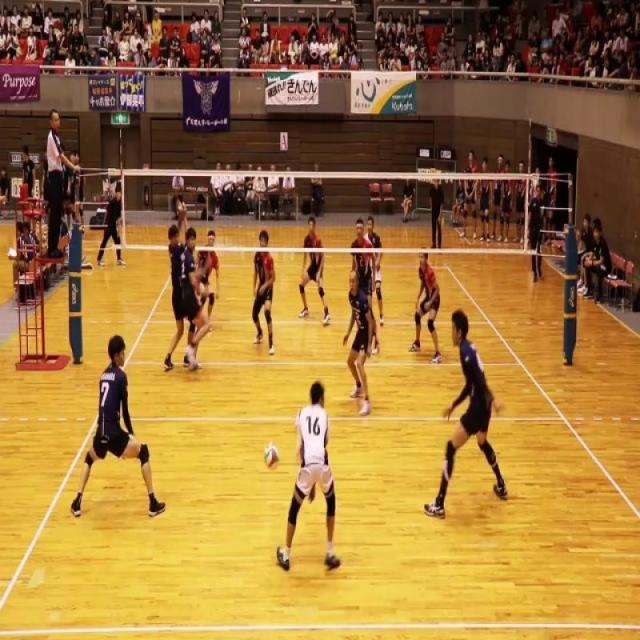volleyball: (263, 439, 279, 469)
